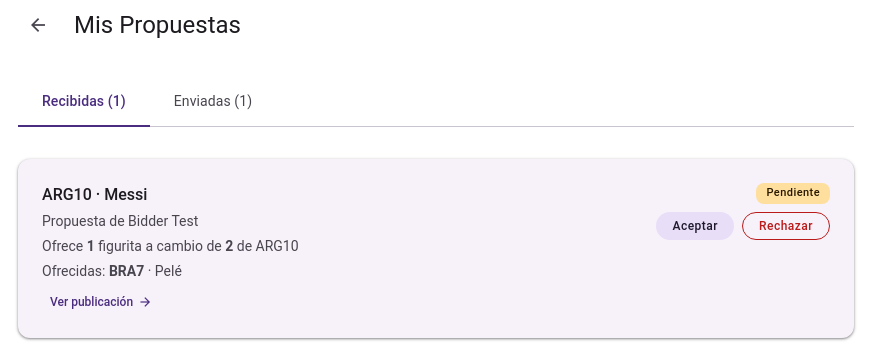
Test: ProposalsPage — tabs y contadores › cambia el contenido entre tabs
Expected: the text "Propuesta de Bidder Test" is shown, [42, 213, 198, 229]
Click the button "Enviadas (1)".
click(213, 102)  # box [150, 77, 276, 127]
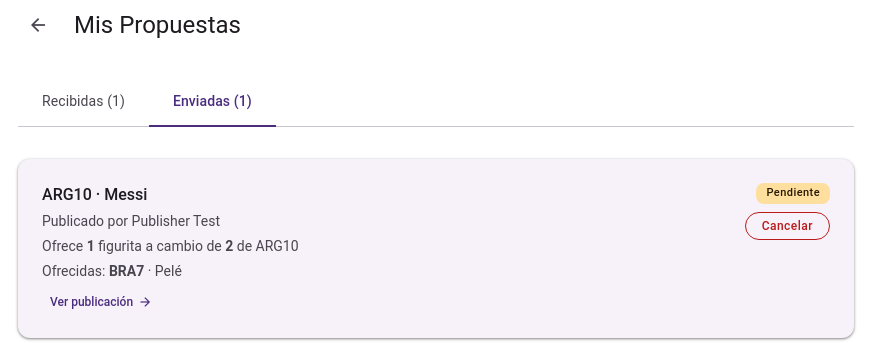
Now the text "Publicado por Publisher Test" is shown, box [42, 213, 220, 229]
